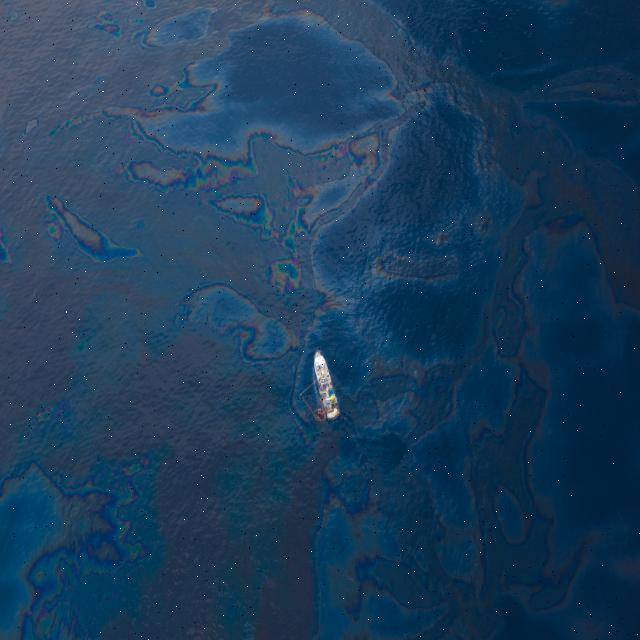oil: (72, 15, 430, 220)
